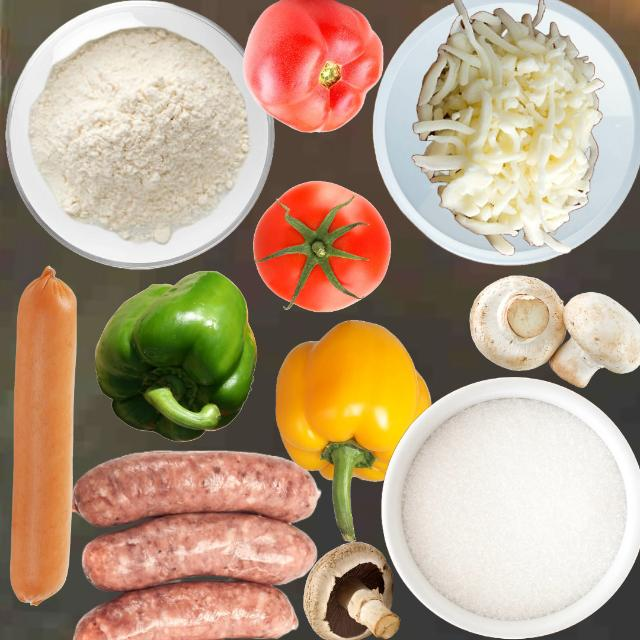Flour: (27, 25, 249, 244)
Sugar: (400, 396, 626, 620)
